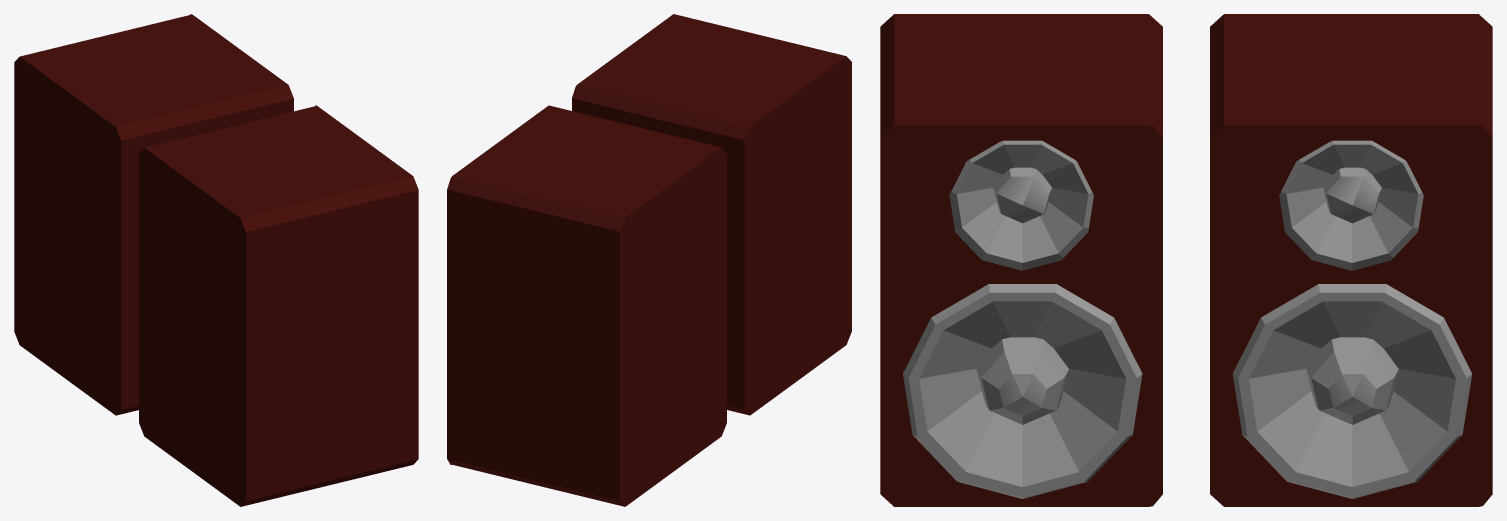
Rendered from 2speakers.fbx.
The picture shows the model from 3 angles, left to right: view 1: azimuth 30°, elevation 25°; view 2: azimuth 150°, elevation 25°; view 3: azimuth 270°, elevation 25°; orthographic projection. The views are drawn at different scales.
Parts seen in each view (by area): view 1: polySurface11.002; view 2: polySurface11.002; view 3: polySurface11.002.
Part boxes in pixels (x1,y1,x2,y2): polySurface11.002: [14, 14, 418, 506]; polySurface11.002: [447, 14, 851, 506]; polySurface11.002: [880, 14, 1492, 506].
Bounding box in the file's own units: 67.61 × 46.46 × 30.15.
